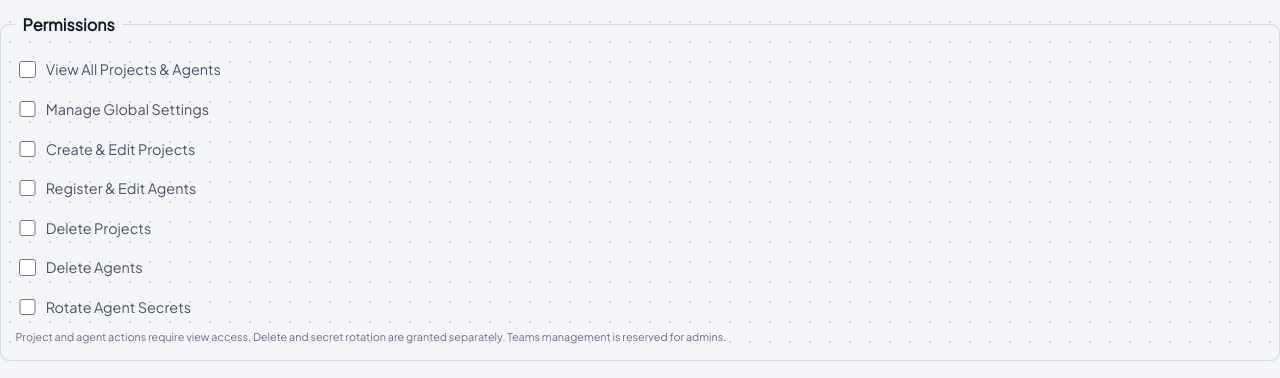
keeps edit, delete, and rotation separate and supplies required view access
The image size is (1280, 378).
Click the checkbox labelled "Register & Edit Agents" at (28,188), box [19,180,36,196]
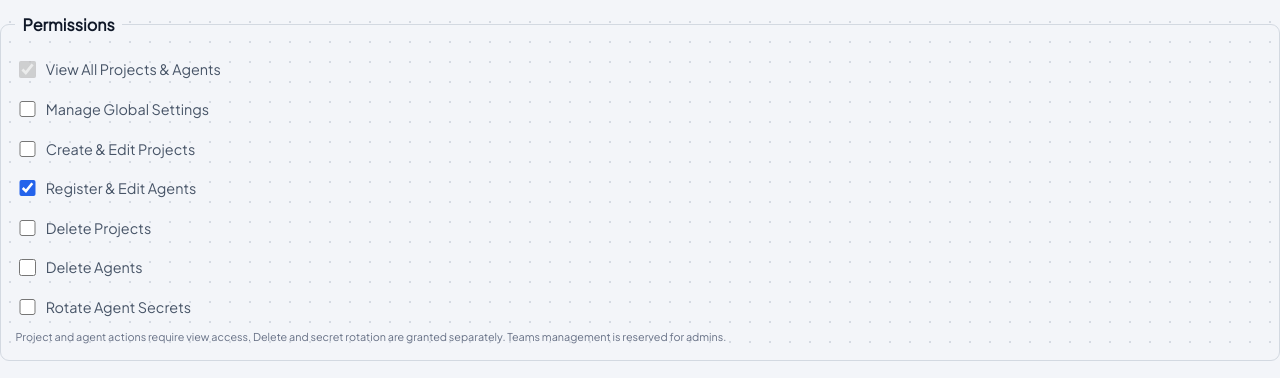
Expected: the checkbox labelled "Delete Agents" is not checked, [19,259,36,276]
Result: the checkbox labelled "View All Projects & Agents" is checked at [19,61,36,78]
Result: the checkbox labelled "View All Projects & Agents" is disabled at [19,61,36,78]
Click the checkbox labelled "Register & Edit Agents" at (28,188), box [19,180,36,196]
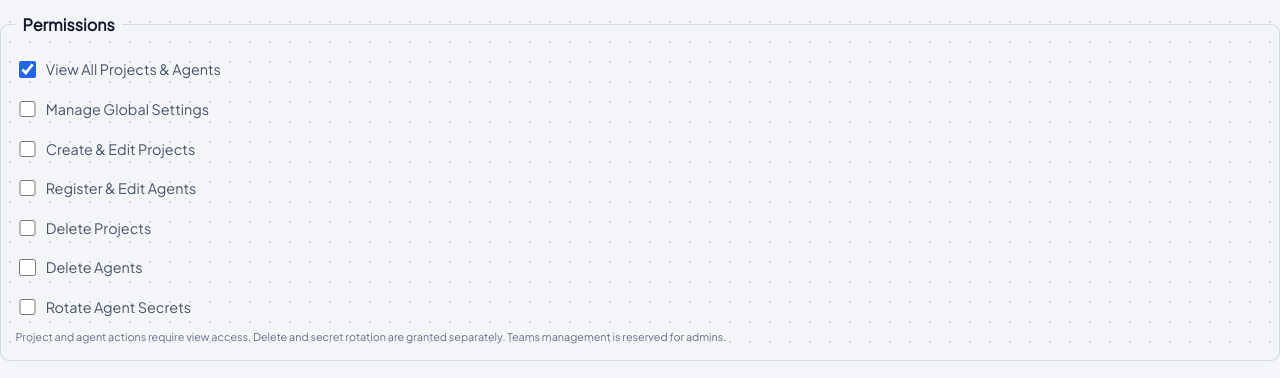
Result: the checkbox labelled "View All Projects & Agents" is enabled at [19,61,36,78]
